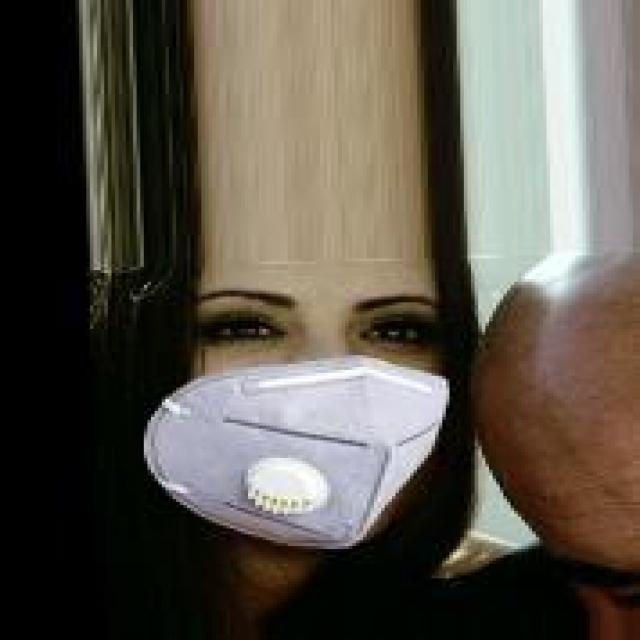mask: (147, 279, 528, 549)
